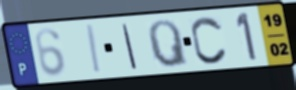1: (234, 11, 261, 63)
6: (33, 27, 69, 79)
C: (189, 14, 229, 66)
I: (120, 22, 140, 71), (86, 23, 104, 76)
Q: (147, 18, 191, 70)
